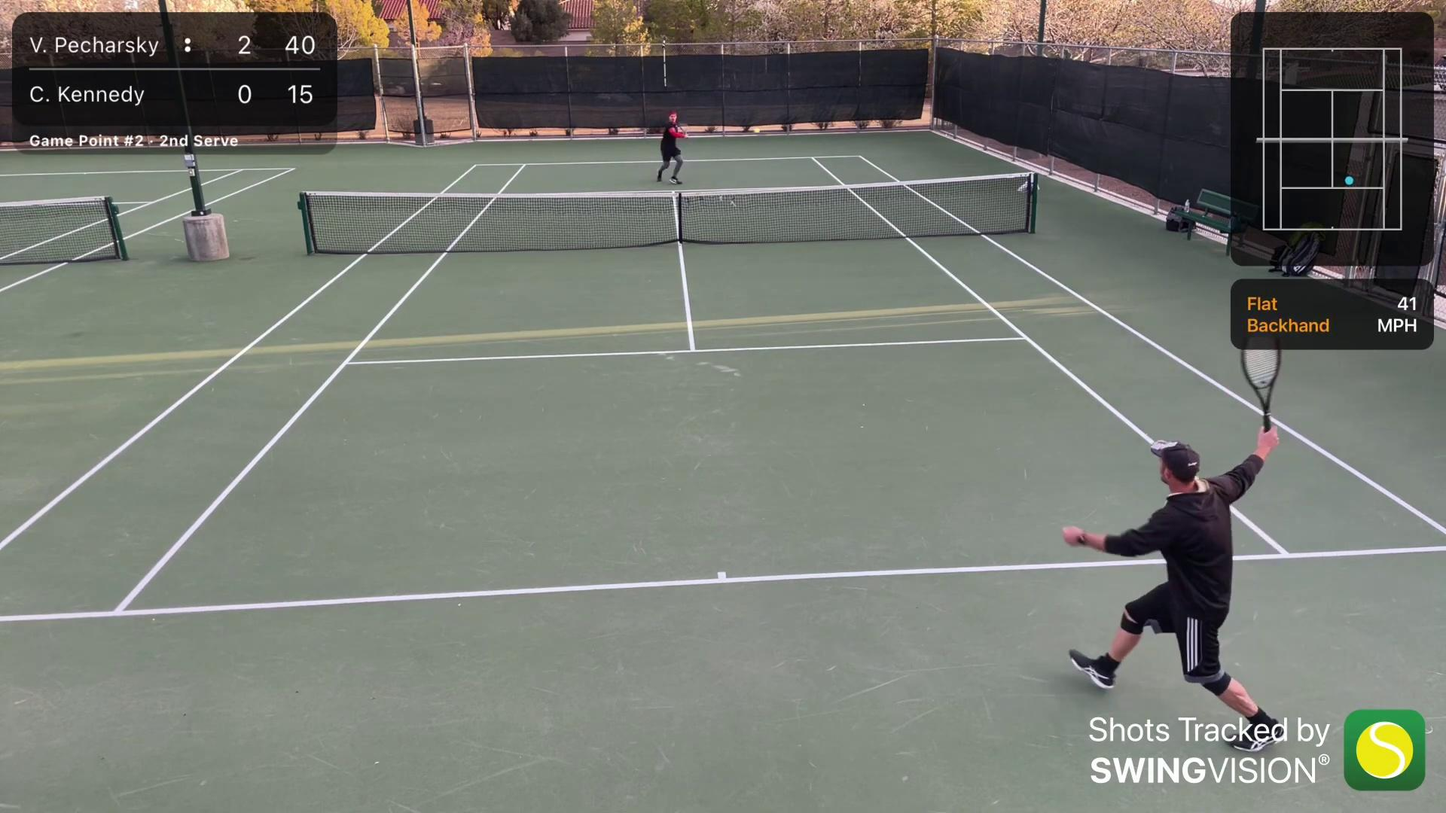ball: (753, 127, 762, 134)
